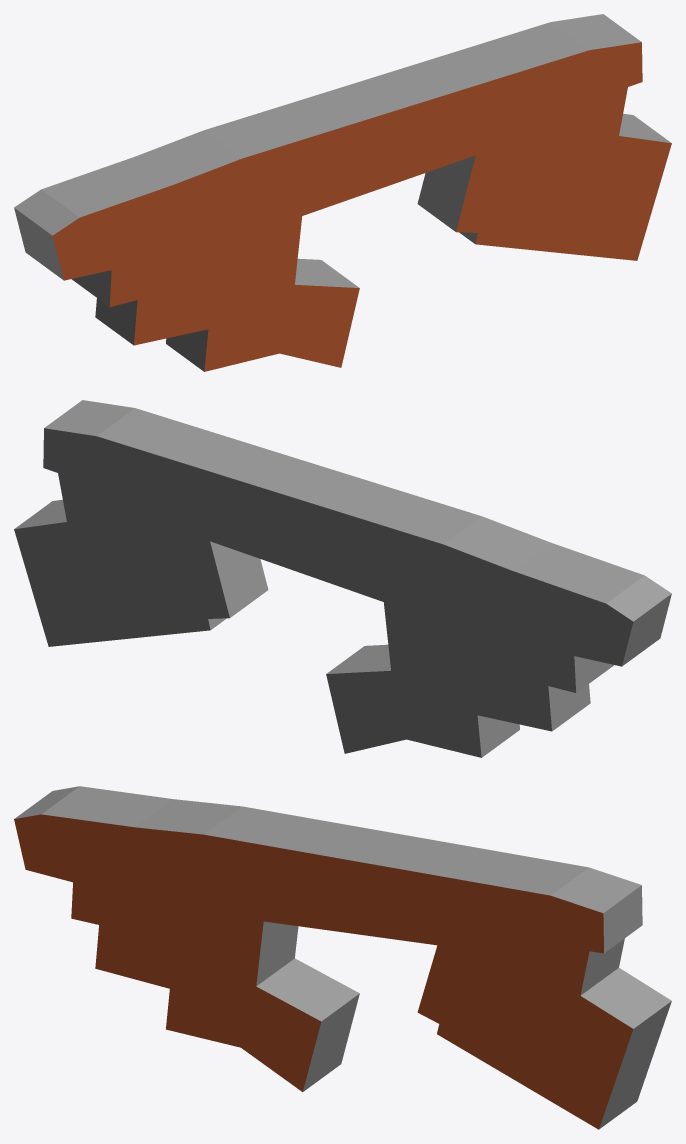
File: construction_1037_assumed_A_Casa_h6m.obj
The picture shows the model from 3 angles, top to bottom: view 1: azimuth 30°, elevation 25°; view 2: azimuth 150°, elevation 25°; view 3: azimuth 330°, elevation 25°; orthographic projection.
Visible parts, largest first — view 1: construction_1037_assumed_A_Casa; view 2: construction_1037_assumed_A_Casa; view 3: construction_1037_assumed_A_Casa.
Part boxes in pixels (<box>): construction_1037_assumed_A_Casa: <box>14,14,671,371</box>; construction_1037_assumed_A_Casa: <box>14,400,671,757</box>; construction_1037_assumed_A_Casa: <box>14,786,671,1129</box>.
Size of the model in its own units: 55.7 by 22.1 by 6.
